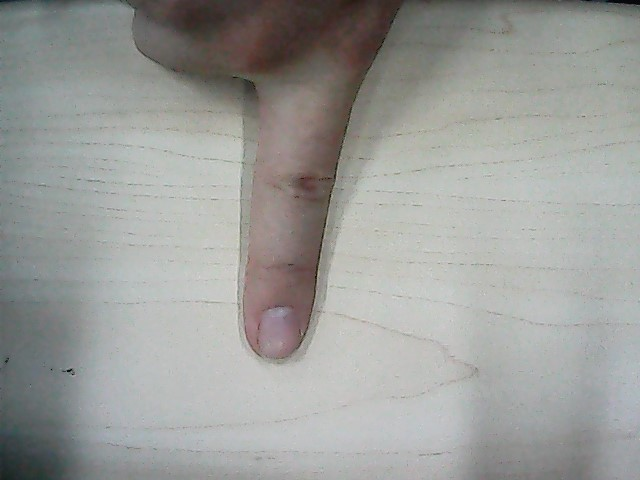nail: (256, 305, 303, 365)
